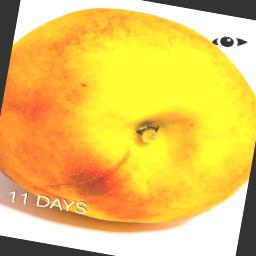Peach Unripe: (0, 0, 256, 246)
